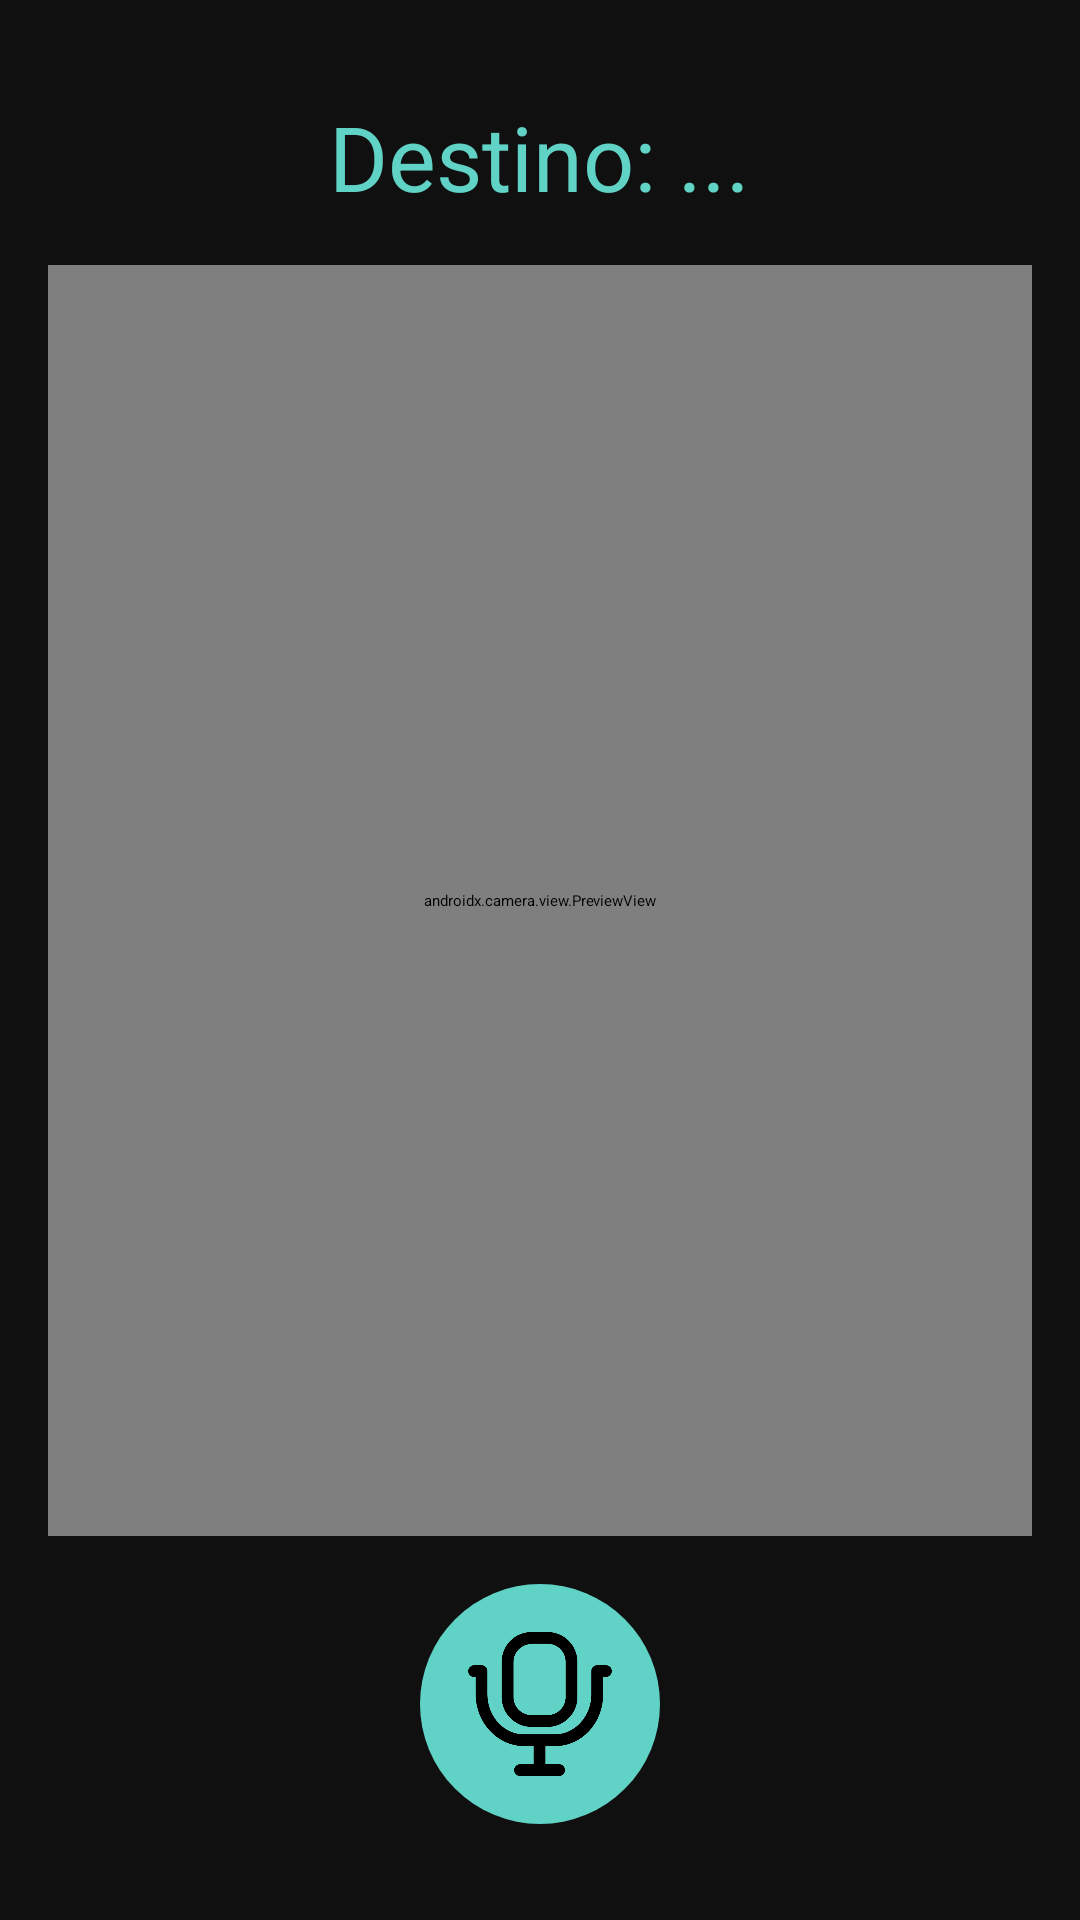

Screen size 1080*1920. Icon name, then its center in pixels as [x,y]:
Activar micrófono: [540,1704]
